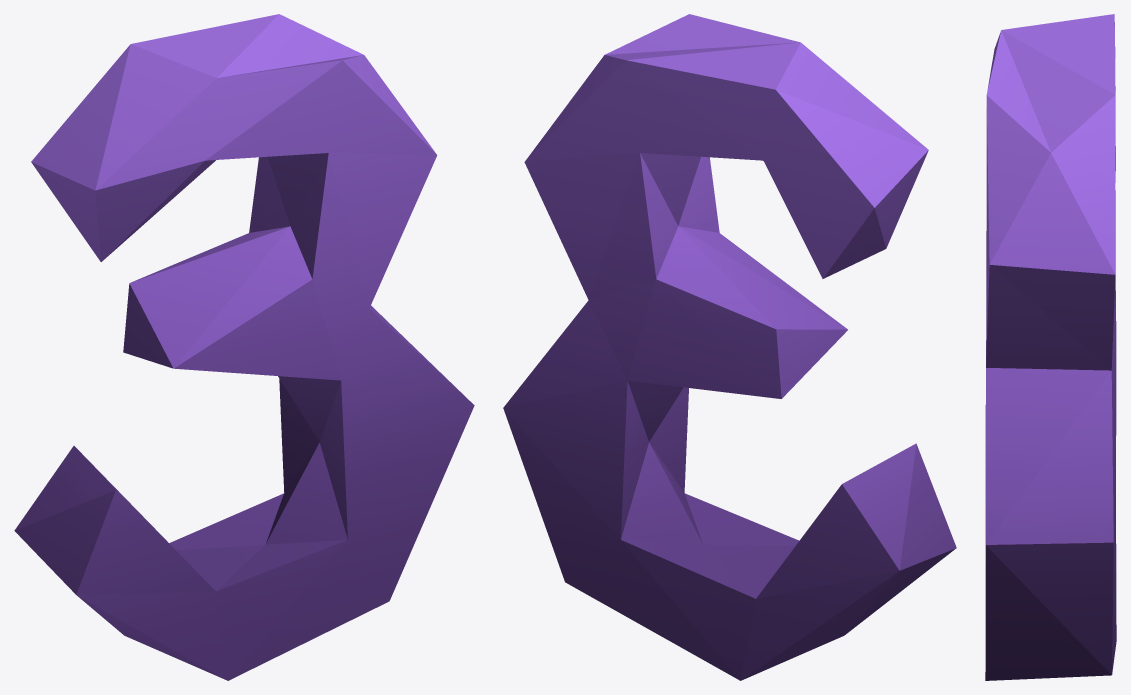
3 renders of one model, left to right at view 1: azimuth 30°, elevation 25°; view 2: azimuth 150°, elevation 25°; view 3: azimuth 270°, elevation 25°, orthographic.
Visible parts, largest first — view 1: Three; view 2: Three; view 3: Three.
Boxes of the visible parts, <box> form: Three: <box>14,14,474,680</box>; Three: <box>503,14,956,680</box>; Three: <box>985,14,1116,680</box>.
Size of the model in its own units: 0.3515 by 0.5018 by 0.0976.
